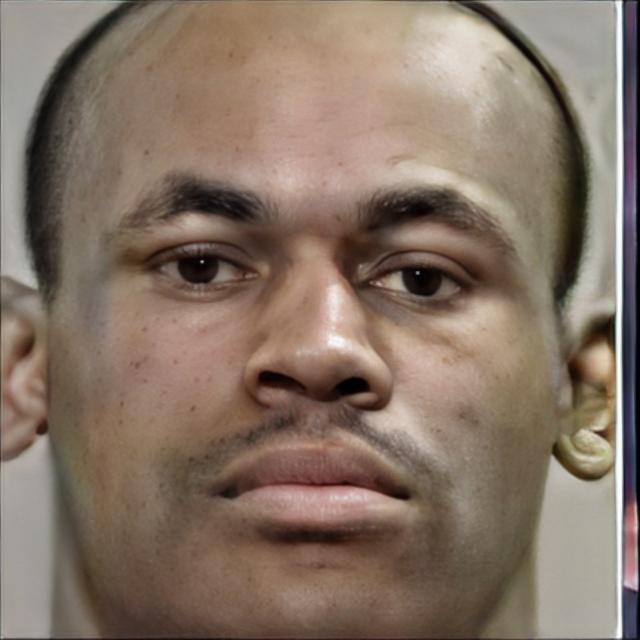neutral: (66, 45, 554, 629)
